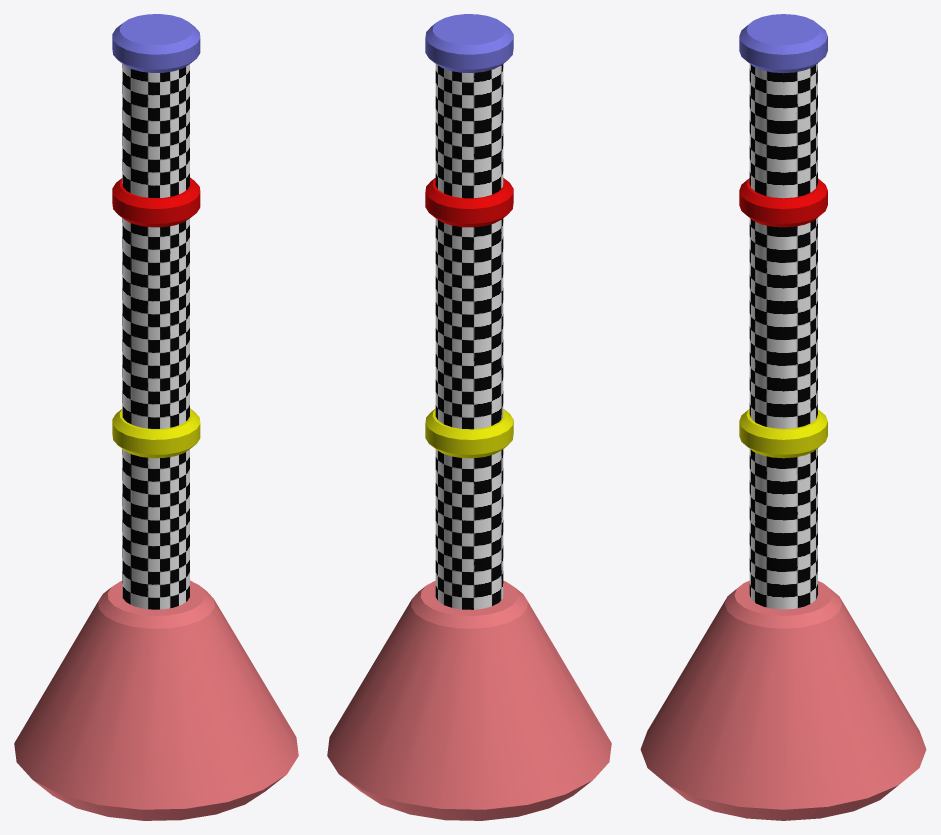
Rendered from finish_tower.fbx.
The picture shows the model from 3 angles, left to right: view 1: azimuth 30°, elevation 25°; view 2: azimuth 150°, elevation 25°; view 3: azimuth 270°, elevation 25°; orthographic projection.
Parts seen in each view (by area): view 1: pCylinder17, rope3, pCylinder16, pCylinder14, pCylinder15; view 2: pCylinder17, rope3, pCylinder16, pCylinder14, pCylinder15; view 3: pCylinder17, rope3, pCylinder16, pCylinder15, pCylinder14.
Boxes of the visible parts, x1,y1,x2,y2 form: pCylinder17: [14, 580, 298, 820]; rope3: [122, 64, 189, 609]; pCylinder16: [112, 14, 200, 72]; pCylinder14: [112, 177, 200, 227]; pCylinder15: [112, 408, 200, 458]; pCylinder17: [327, 580, 611, 820]; rope3: [435, 64, 503, 609]; pCylinder16: [425, 14, 513, 72]; pCylinder14: [425, 178, 513, 227]; pCylinder15: [425, 408, 513, 458]; pCylinder17: [640, 580, 926, 820]; rope3: [749, 63, 817, 609]; pCylinder16: [739, 14, 827, 73]; pCylinder15: [739, 409, 827, 458]; pCylinder14: [739, 178, 827, 227].
Size of the model in its own units: 38.69 by 111 by 38.69.
5 materials, 1 textured.
